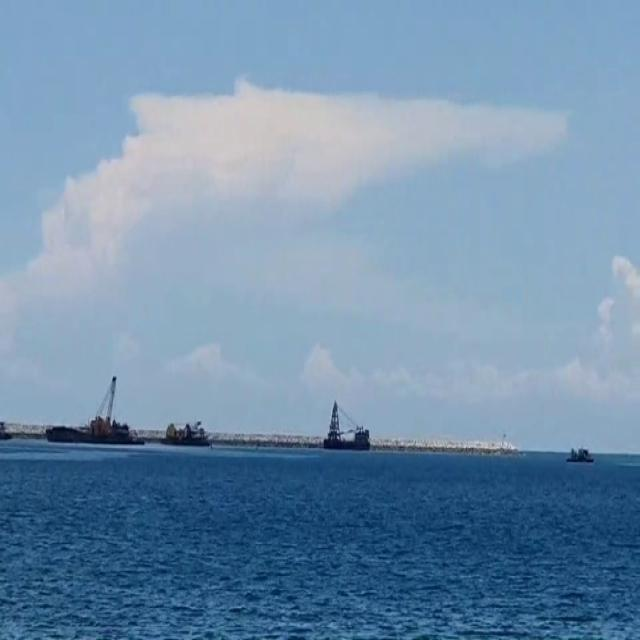civilianship: (51, 360, 146, 462), (162, 386, 214, 463), (318, 394, 376, 456), (573, 435, 606, 482)
